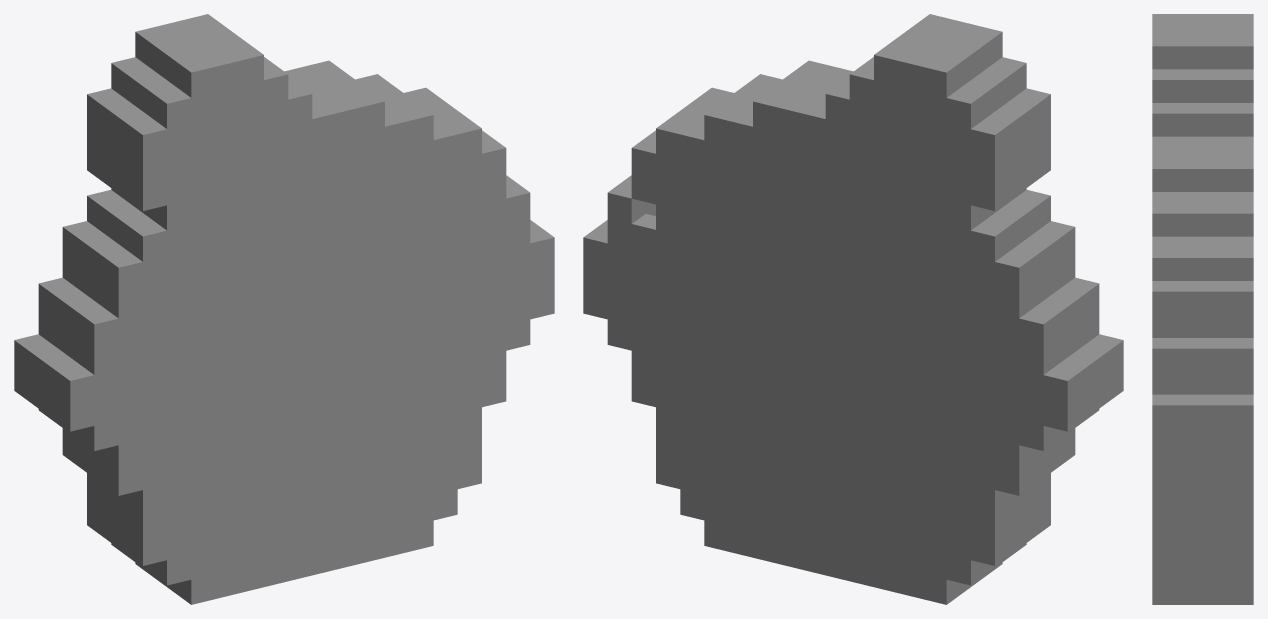
Rendered from cake.fbx.
3 renders of one model, left to right at view 1: azimuth 30°, elevation 25°; view 2: azimuth 150°, elevation 25°; view 3: azimuth 270°, elevation 25°, orthographic. The views are drawn at different scales.
Parts seen in each view (by area): view 1: pCube310, pCube363, pCube478, pCube403, pCube477, pCube406, pCube464, pCube271, pCube338, pCube374, pCube308, pCube459 (+44 smaller); view 2: pCube635, pCube641, pCube642, pCube627, pCube640, pCube625, pCube637, pCube604, pCube633, pCube643, pCube626, pCube644 (+45 smaller); view 3: pCube331, pCube446, pCube482, pCube595, pCube624, pCube646, pCube484, pCube492, pCube539, pCube547, pCube499, pCube554 (+96 smaller).
Boxes of the visible parts, x1,y1,x2,y2 form: pCube310: (56,365,94,406); pCube363: (80,308,118,349); pCube478: (177,56,215,97); pCube403: (104,251,142,292); pCube477: (153,88,191,129); pCube406: (129,220,166,261); pCube464: (129,119,166,160); pCube271: (104,460,142,495); pCube338: (80,339,118,374); pCube374: (104,283,142,318); pCube308: (56,396,94,431); pCube459: (323,97,360,138); pCube635: (922,56,960,97); pCube641: (1019,308,1057,349); pCube642: (1043,365,1081,406); pCube627: (995,251,1033,292); pCube640: (946,88,984,129); pCube625: (971,220,1008,261); pCube637: (971,119,1008,160); pCube604: (607,182,645,223); pCube633: (995,460,1033,495); pCube643: (1019,339,1057,374); pCube626: (995,283,1033,318); pCube644: (1043,396,1081,431); pCube331: (1152,394,1177,428); pCube446: (1152,202,1177,236); pCube482: (1152,35,1177,69); pCube595: (1228,202,1253,236); pCube624: (1228,394,1253,428); pCube646: (1228,35,1253,69); pCube484: (1177,35,1202,69); pCube492: (1177,202,1202,236); pCube539: (1203,35,1228,69); pCube547: (1203,202,1228,236); pCube499: (1177,394,1202,428); pCube554: (1203,394,1228,428).
Size of the model in its own units: 20 by 21 by 4.
